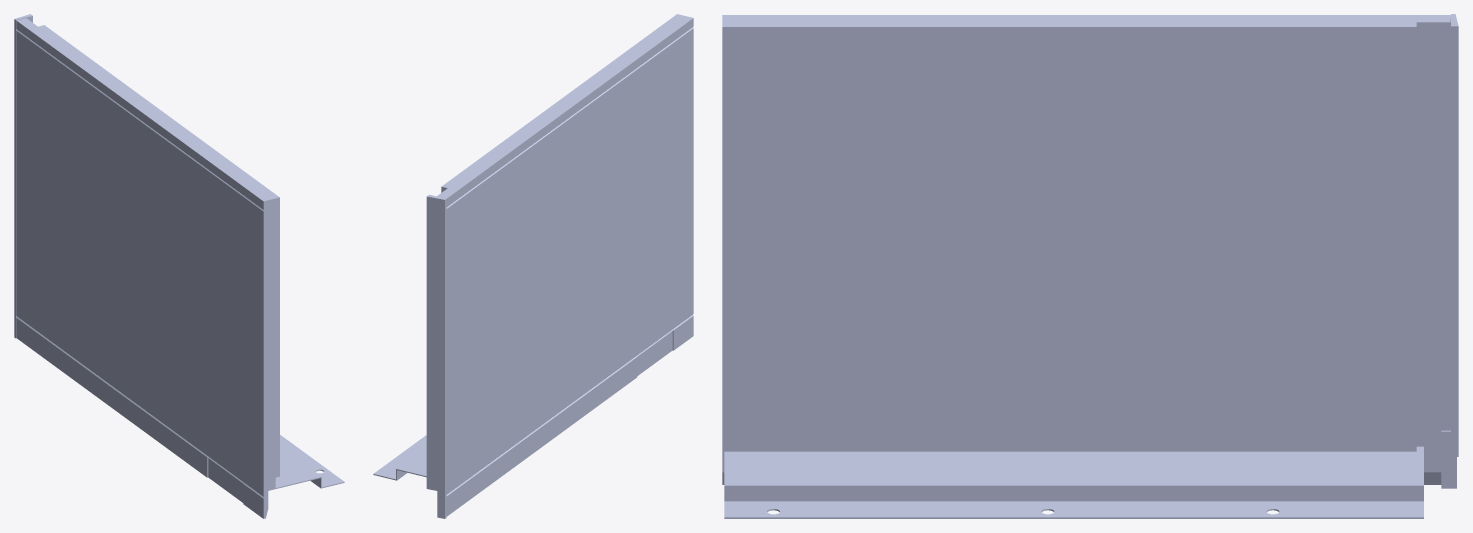
The model's file is lg-kava-F350-p.glb.
3 views of the same model, side by side, from view 1: azimuth 30°, elevation 25°; view 2: azimuth 150°, elevation 25°; view 3: azimuth 270°, elevation 25° (orthographic). The views are drawn at different scales.
Visible parts, largest first — view 1: 49136430; view 2: 49136430; view 3: 49136430.
Part boxes in pixels (box(x1,y1,x2,y2)): 49136430: box(14, 14, 344, 518); 49136430: box(373, 14, 693, 518); 49136430: box(722, 14, 1458, 518).
Bounding box in the file's own units: 0.0653 × 0.2417 × 0.3435.
